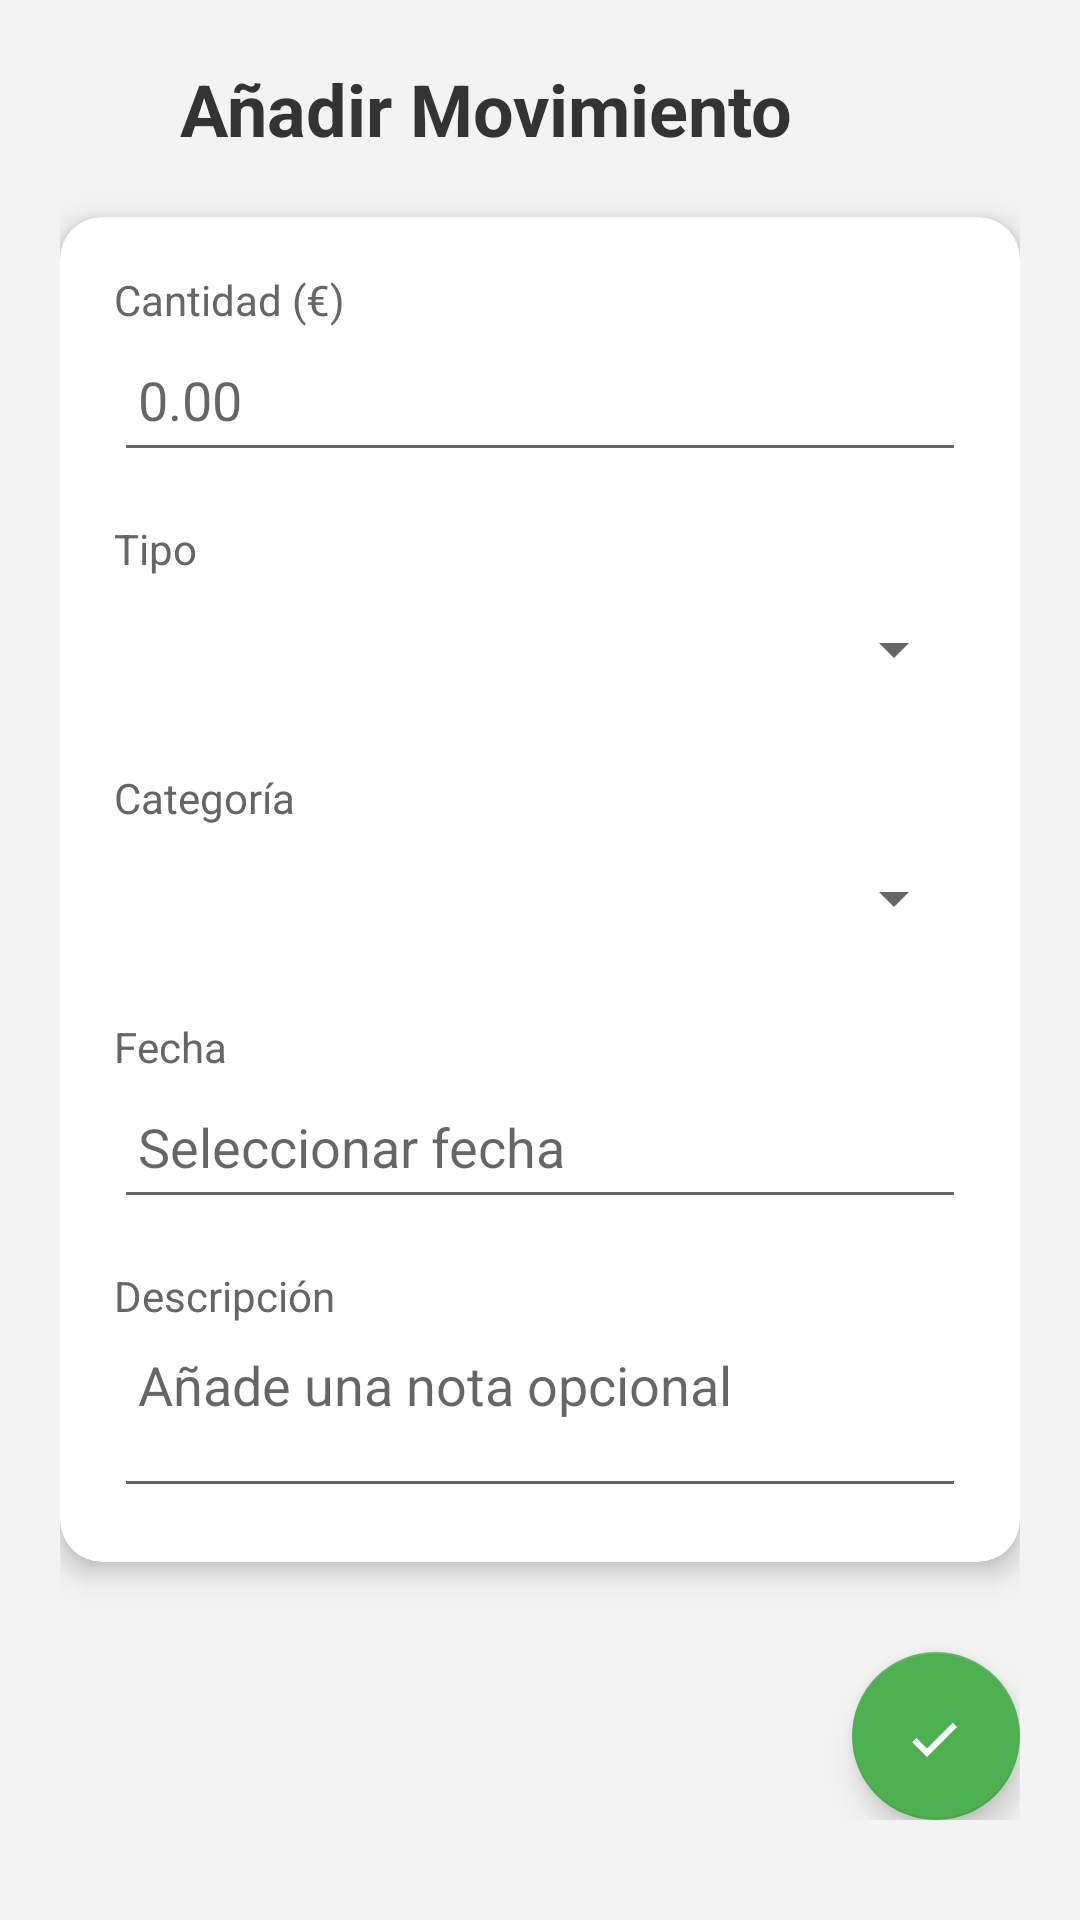

Where icons sit on this 1080x1920 app screen, as [x1=x1, y1=y1, x2=x2, y2=y2]:
Guardar movimiento: [x1=852, y1=1652, x2=1020, y2=1820]
